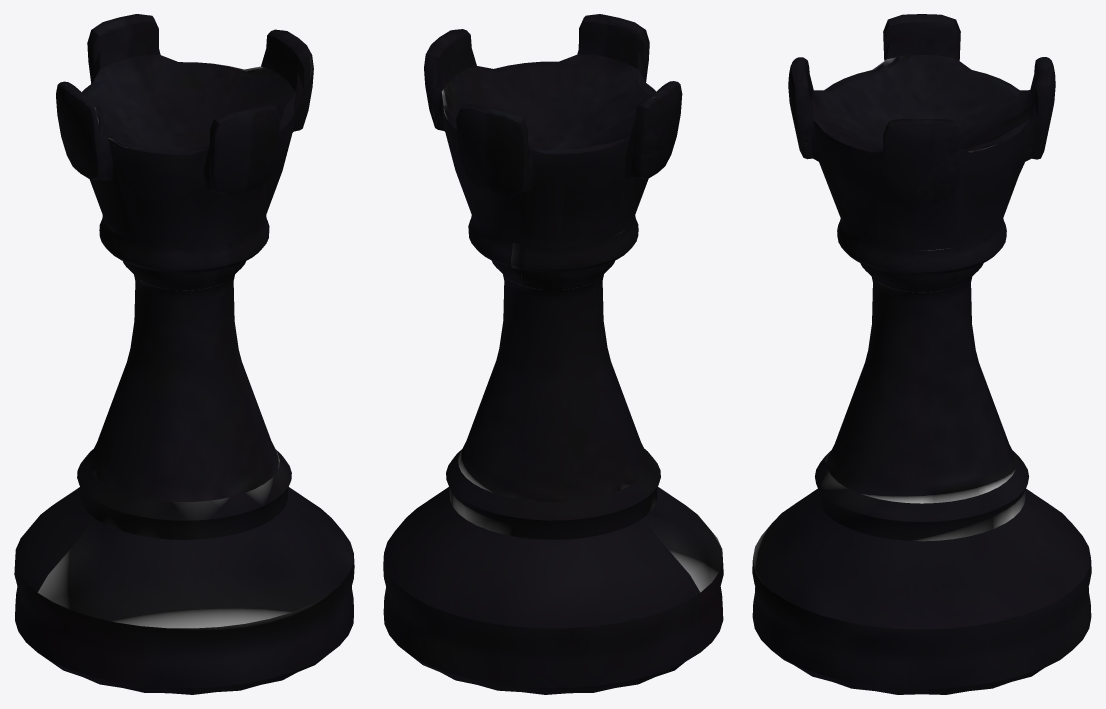
The model's file is torre_Negras.glb.
The picture shows the model from 3 angles, left to right: view 1: azimuth 30°, elevation 25°; view 2: azimuth 150°, elevation 25°; view 3: azimuth 270°, elevation 25°; orthographic projection.
Visible parts, largest first — view 1: defaultMaterial.022; view 2: defaultMaterial.022; view 3: defaultMaterial.022.
Part boxes in pixels (x1=…): defaultMaterial.022: x1=14, y1=14, x2=354, y2=694; defaultMaterial.022: x1=383, y1=14, x2=723, y2=694; defaultMaterial.022: x1=752, y1=14, x2=1091, y2=694.
Size of the model in its own units: 0.7819 by 1.43 by 0.7819.
Materials: 1 (1 with a texture image).
